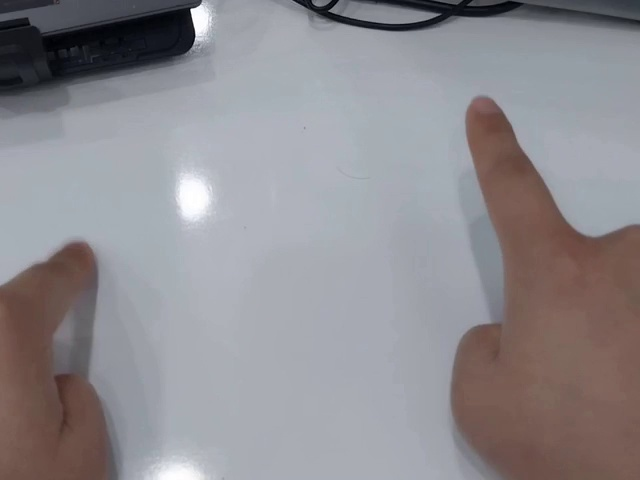fingers: (46, 239, 97, 295), (464, 94, 515, 143)
